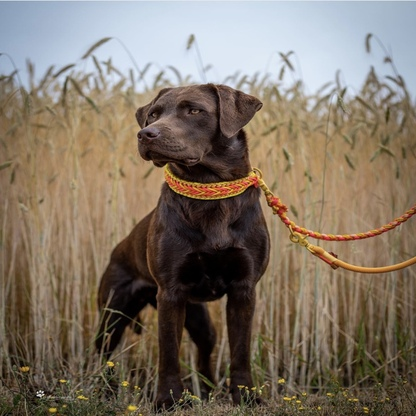labrado: (93, 79, 277, 413)
